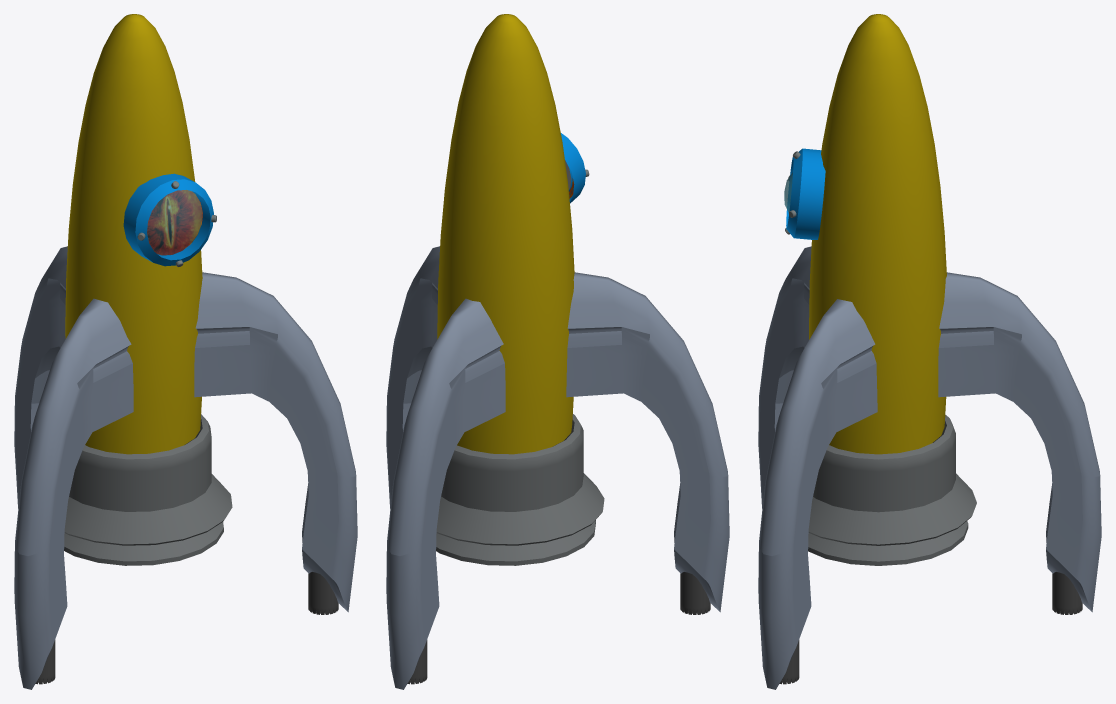
Rendered from Rocket.fbx.
3 views of the same model, side by side, from view 1: azimuth 30°, elevation 25°; view 2: azimuth 150°, elevation 25°; view 3: azimuth 270°, elevation 25° (orthographic).
Parts seen in each view (by area): view 1: pSphere1, Foot, Foot3, pCylinder1, Window, Foot2, Picture, pCylinder2; view 2: pSphere1, Foot3, Foot2, pCylinder1, Foot, Thruster, Window; view 3: pSphere1, Foot2, Foot, pCylinder1, Foot3, Window, Thruster2.
Part boxes in pixels (bbox=[...]): pSphere1: bbox=[65, 14, 202, 454]; Foot: bbox=[194, 272, 357, 612]; Foot3: bbox=[14, 298, 133, 689]; pCylinder1: bbox=[64, 414, 232, 565]; Window: bbox=[123, 173, 213, 266]; Foot2: bbox=[14, 246, 67, 508]; Picture: bbox=[147, 190, 202, 255]; pCylinder2: bbox=[308, 572, 338, 614]; pSphere1: bbox=[437, 14, 574, 454]; Foot3: bbox=[566, 272, 729, 612]; Foot2: bbox=[386, 298, 505, 689]; pCylinder1: bbox=[436, 414, 604, 565]; Foot: bbox=[386, 246, 439, 508]; Thruster: bbox=[680, 572, 710, 614]; Window: bbox=[561, 133, 585, 203]; pSphere1: bbox=[809, 14, 946, 454]; Foot2: bbox=[938, 272, 1101, 612]; Foot: bbox=[758, 299, 877, 689]; pCylinder1: bbox=[808, 415, 976, 565]; Foot3: bbox=[758, 246, 811, 508]; Window: bbox=[784, 148, 825, 239]; Thruster2: bbox=[1052, 572, 1082, 614].
Size of the model in its own units: 1.1 by 1.85 by 0.9671.
Materials: 9 (1 with a texture image).
